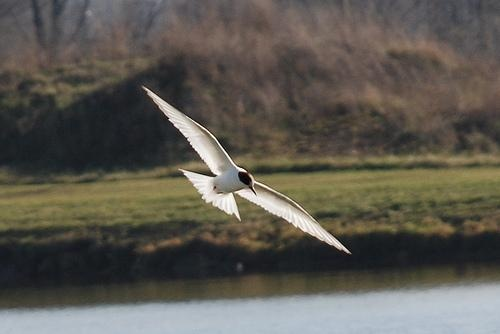bird: (142, 85, 354, 257)
